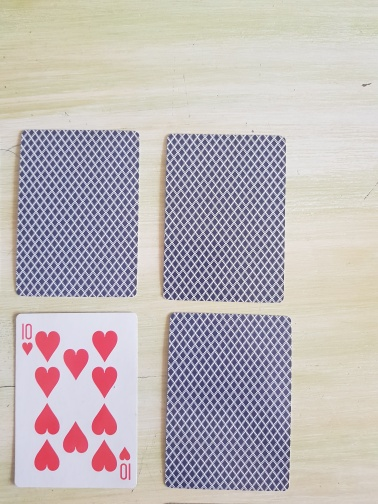ten: (13, 310, 139, 489)
